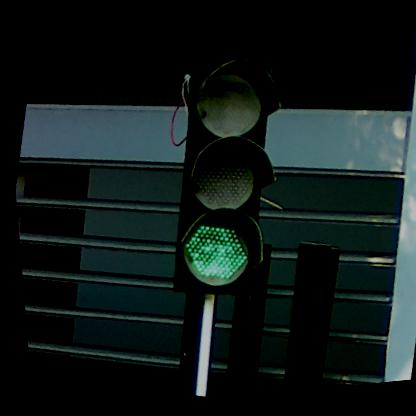green: (142, 55, 300, 314)
